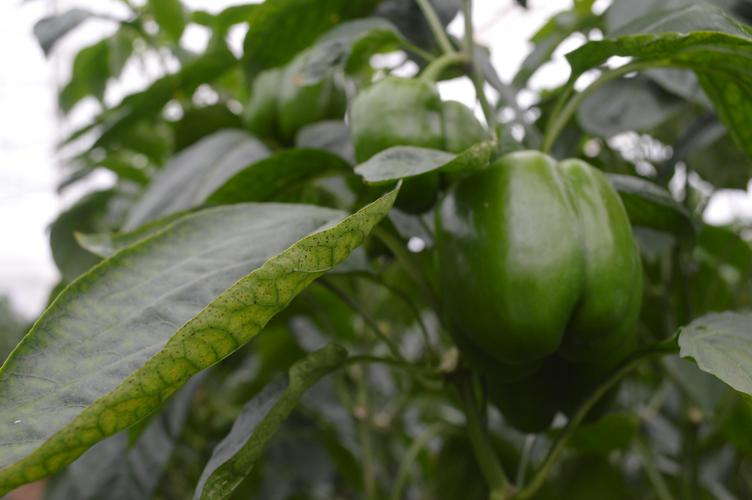BellPepper: (429, 151, 645, 366), (348, 77, 480, 203), (482, 344, 623, 431), (238, 68, 355, 135)
